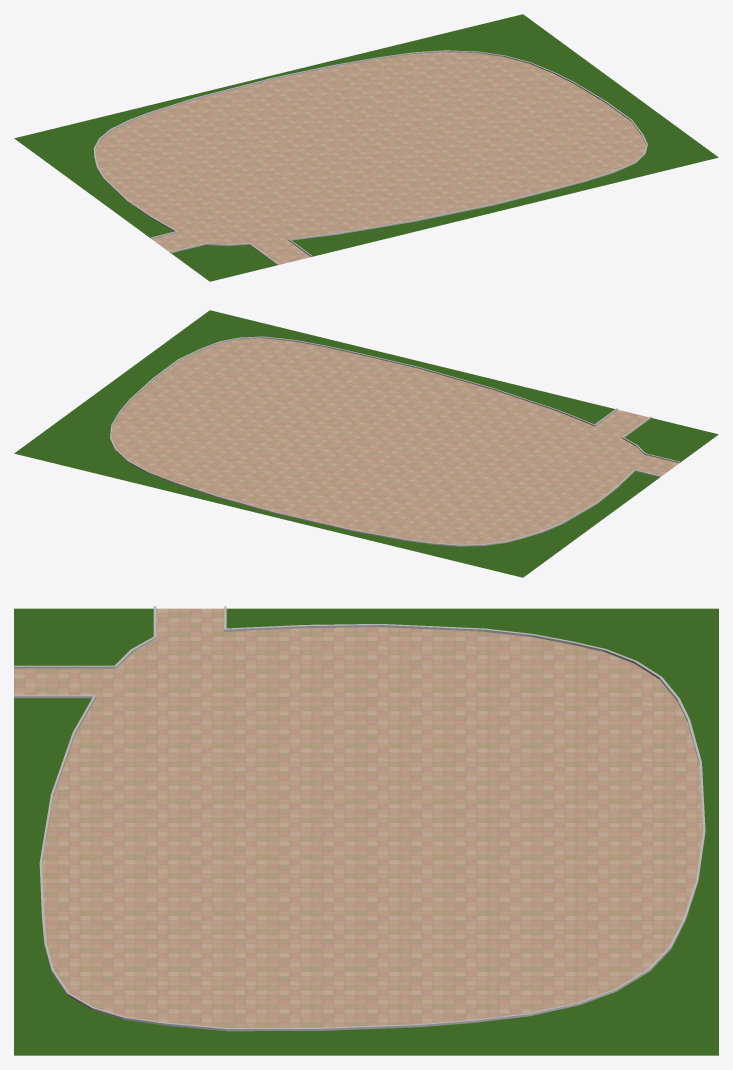
The model's file is RollerCoaster_Ground_02.fbx.
The picture shows the model from 3 angles, top to bottom: view 1: azimuth 30°, elevation 25°; view 2: azimuth 150°, elevation 25°; view 3: azimuth 270°, elevation 25°; orthographic projection. The views are drawn at different scales.
Visible parts, largest first — view 1: RollerCoaster_Ground_02; view 2: RollerCoaster_Ground_02; view 3: RollerCoaster_Ground_02.
Boxes of the visible parts, left/top/right/bottom form: RollerCoaster_Ground_02: left=14, top=14, right=718, bottom=281; RollerCoaster_Ground_02: left=14, top=310, right=718, bottom=577; RollerCoaster_Ground_02: left=14, top=606, right=718, bottom=1055.
Bounding box in the file's own units: 9000 × 6000 × 20.
